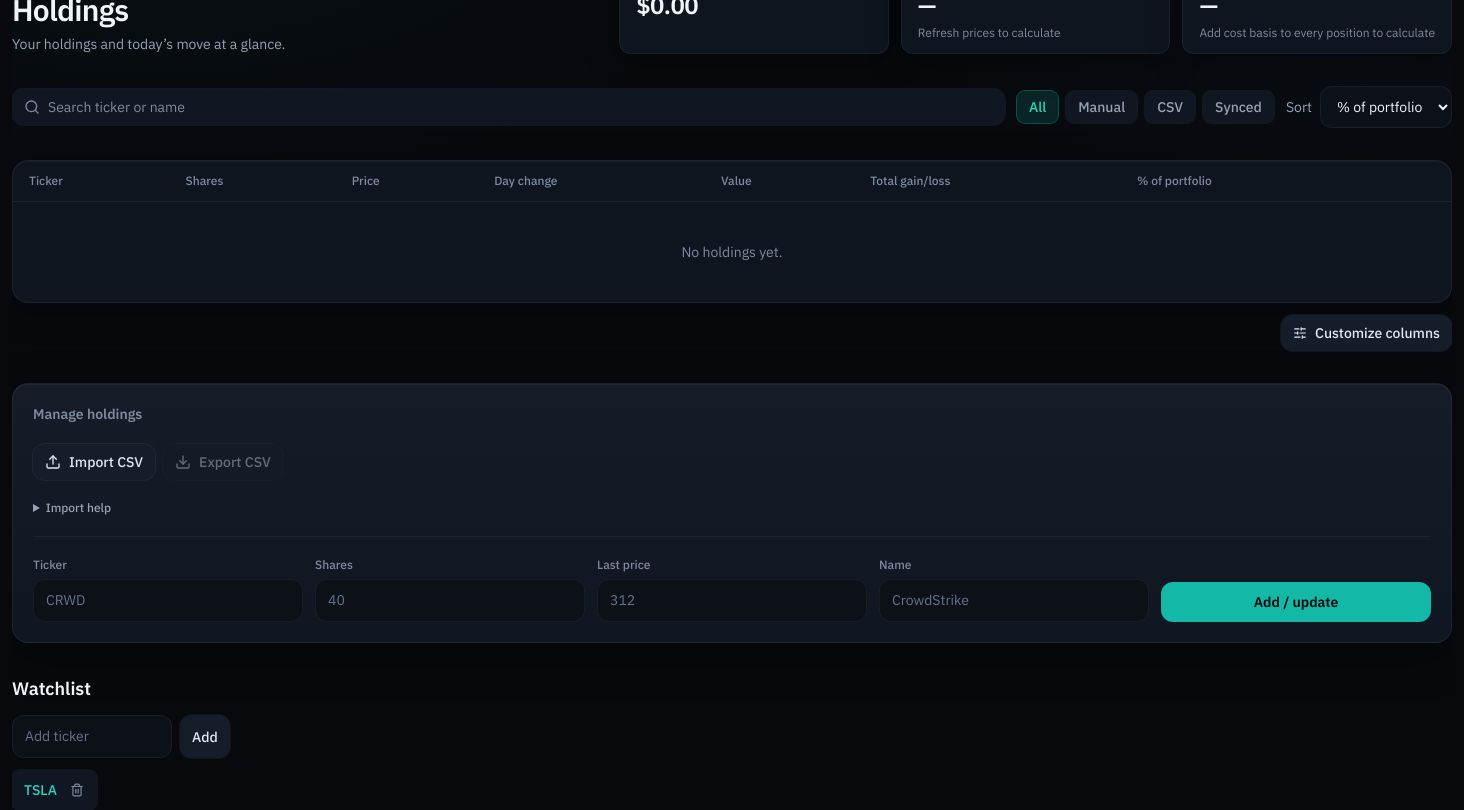
PortfolioPage action feedback › toasts after removing a watchlist ticker
The image size is (1464, 810).
(page scrolled)
Click the button named "Remove TSLA".
click(77, 790)  # box [61,774,93,806]
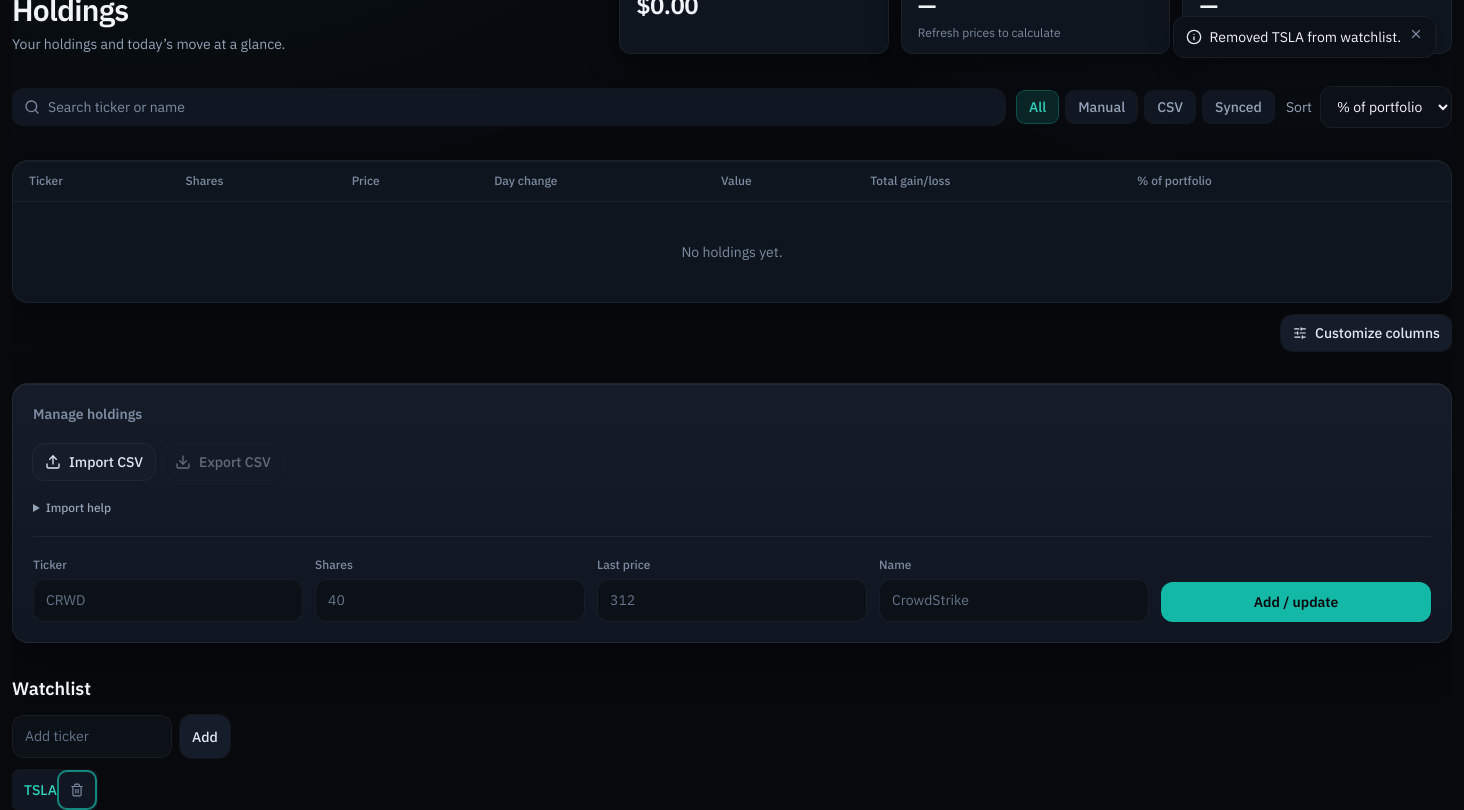
Check: the text "Removed TSLA from watchlist." is shown, box [1210,27,1401,47]
